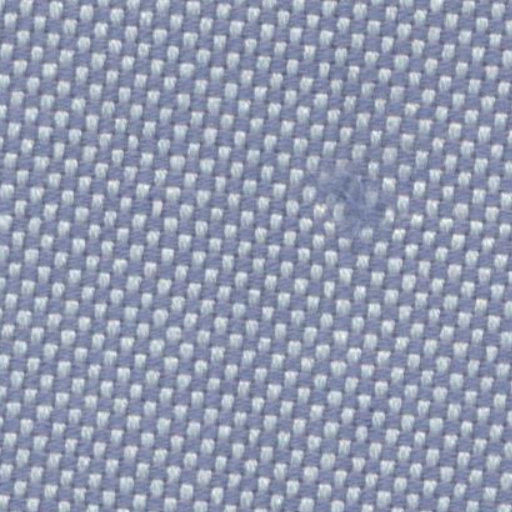MianQiu: (293, 146, 400, 271)
